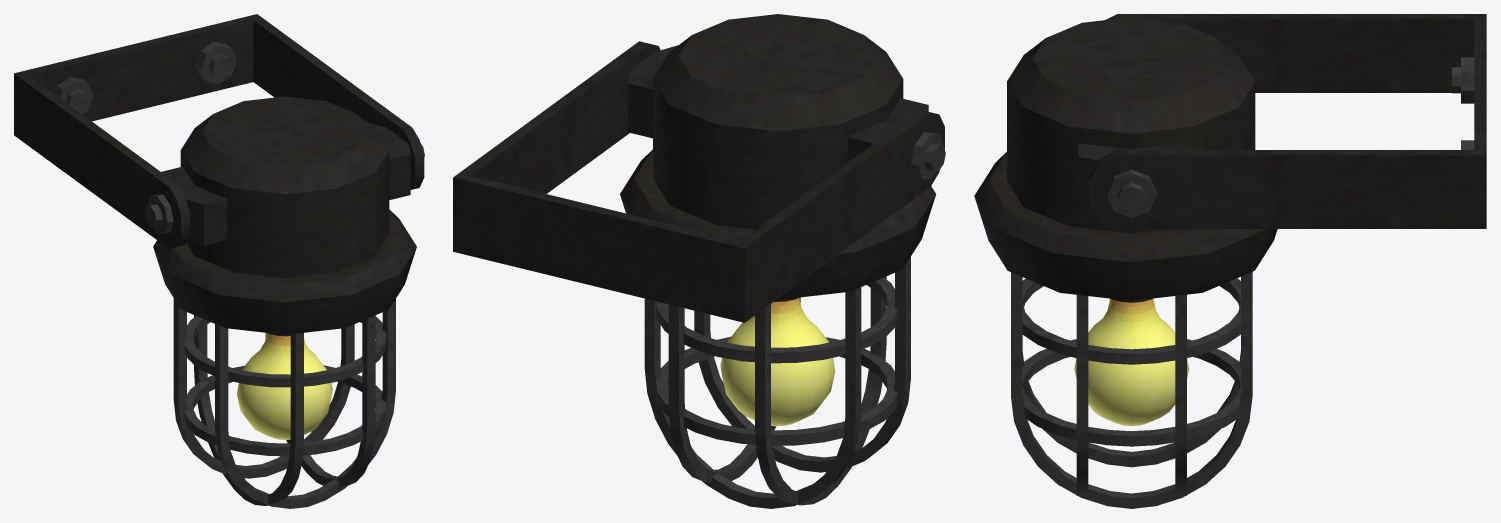
The model's file is lamp_mx_1_1_on.obj.
3 views of the same model, side by side, from view 1: azimuth 30°, elevation 25°; view 2: azimuth 150°, elevation 25°; view 3: azimuth 270°, elevation 25° (orthographic). The views are drawn at different scales.
Parts seen in each view (by area): view 1: lamp_mx_1_1_on; view 2: lamp_mx_1_1_on; view 3: lamp_mx_1_1_on.
Boxes of the visible parts, x1,y1,x2,y2 form: lamp_mx_1_1_on: (14, 14, 424, 508); lamp_mx_1_1_on: (453, 14, 945, 508); lamp_mx_1_1_on: (974, 14, 1486, 508).
Bounding box in the file's own units: 0.2245 × 0.2865 × 0.3118.
